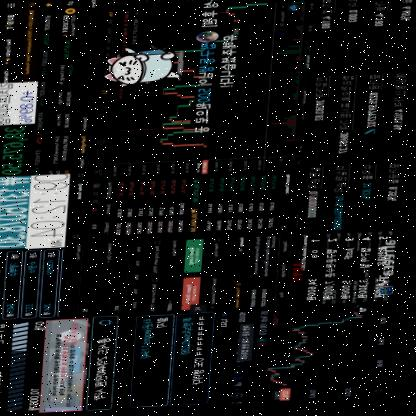donation: (98, 0, 244, 141)
